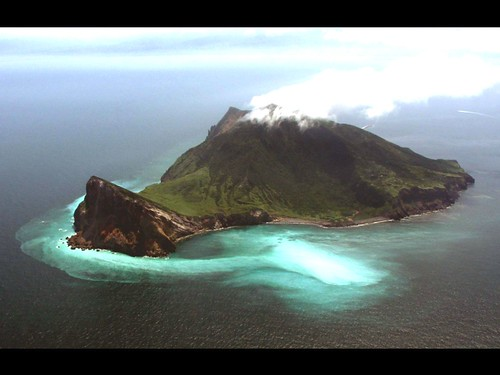turtleIslandTop: (65, 87, 480, 262)
